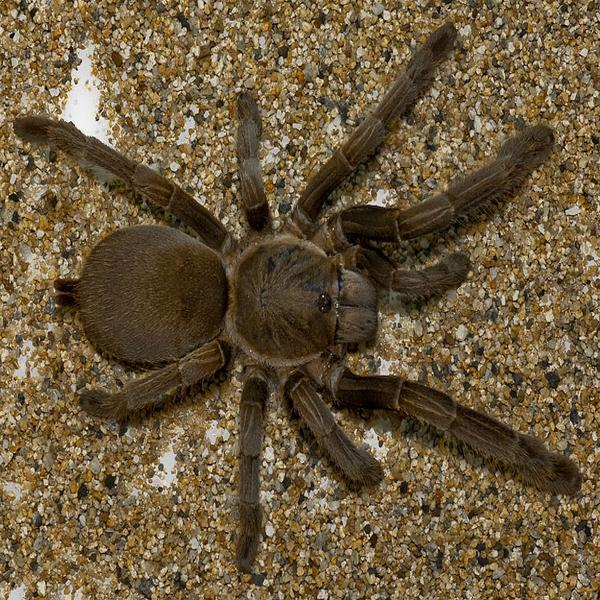Tarantula_Spider: (13, 22, 582, 574)
